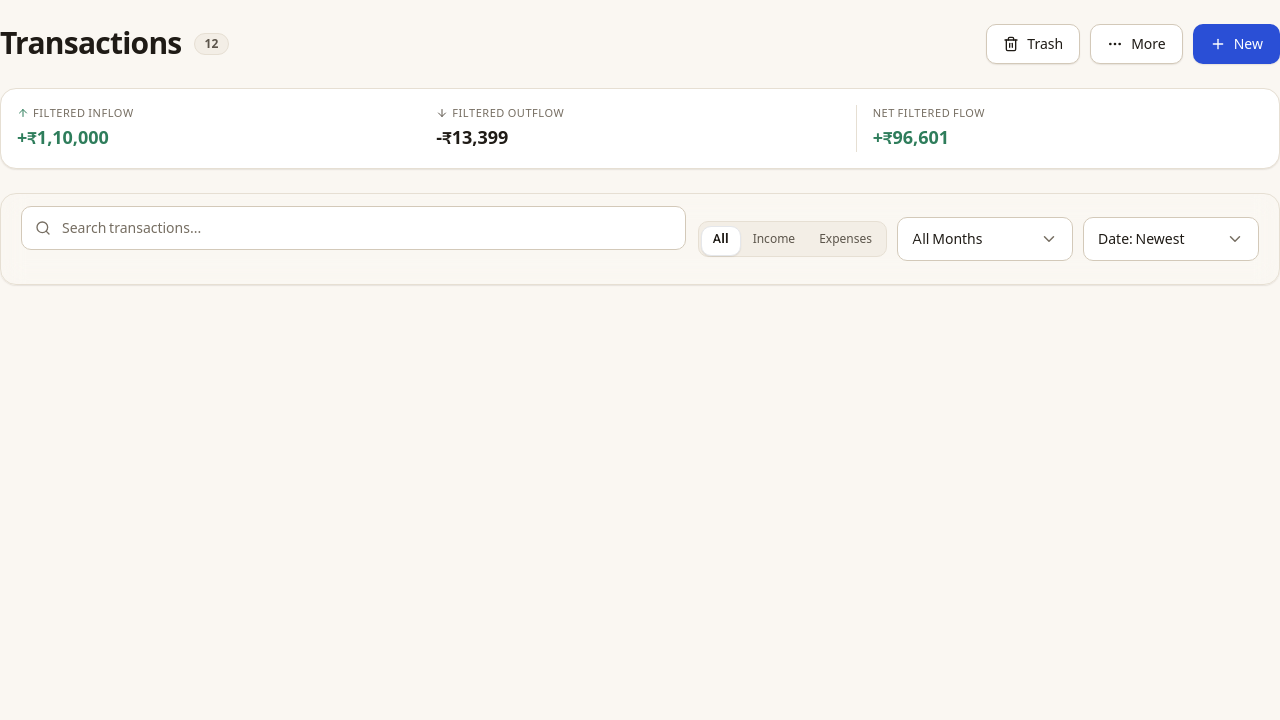
it: Phase 5: Transactions Redesign Screen › 1. Filter Bar (sticky, search, segmented control, dropdowns, chips) › filters live when typing into search input and displays active chip
Type "Dinner" into the field with placeholder "Search transactions...".
click(353, 228); type("Dinner")  # box x1=21 y1=206 x2=686 y2=250
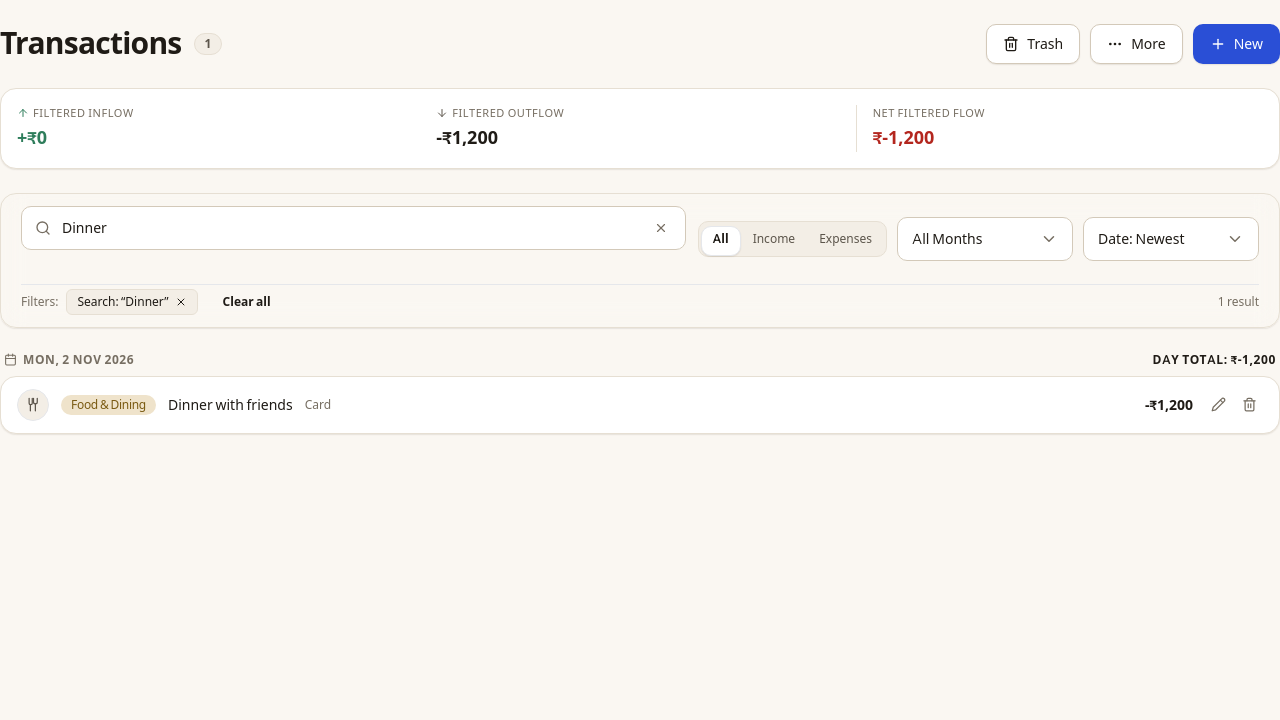
Expected: the text "Search: “Dinner”" is shown, x1=78 y1=294 x2=169 y2=310
Expected: the text "Clear all" is shown, x1=223 y1=294 x2=271 y2=310
Expected: the text "Dinner with friends" is shown, x1=168 y1=394 x2=293 y2=414
// Clear search chip resets immediately
Click the button named "Remove search filter".
click(181, 302)  # box x1=175 y1=296 x2=187 y2=308
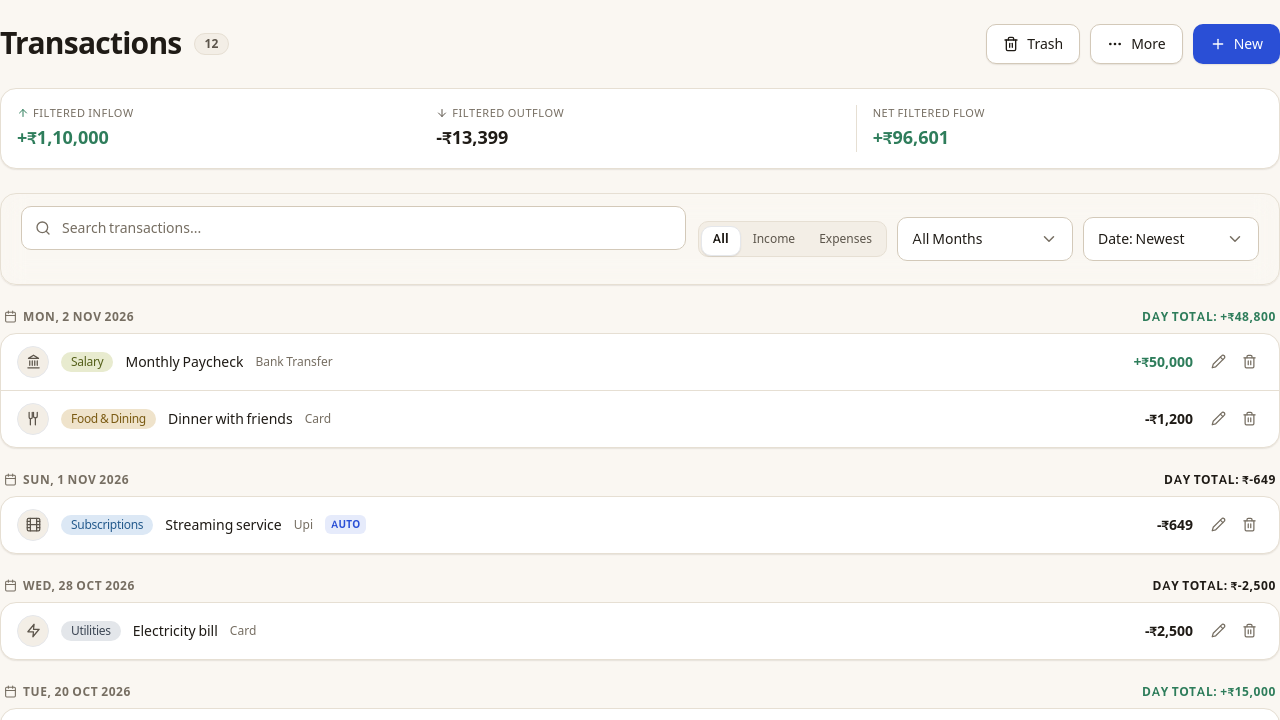
Expected: the text "Electricity bill" is shown, x1=133 y1=620 x2=218 y2=640
